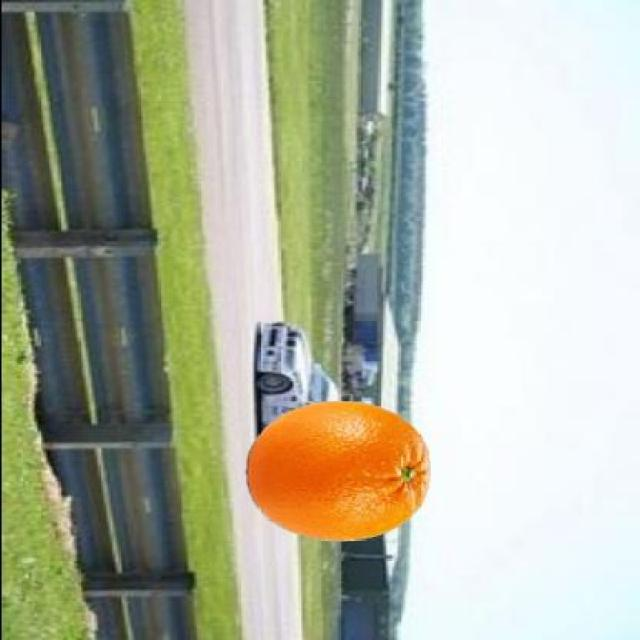Orange: (244, 397, 430, 541)
